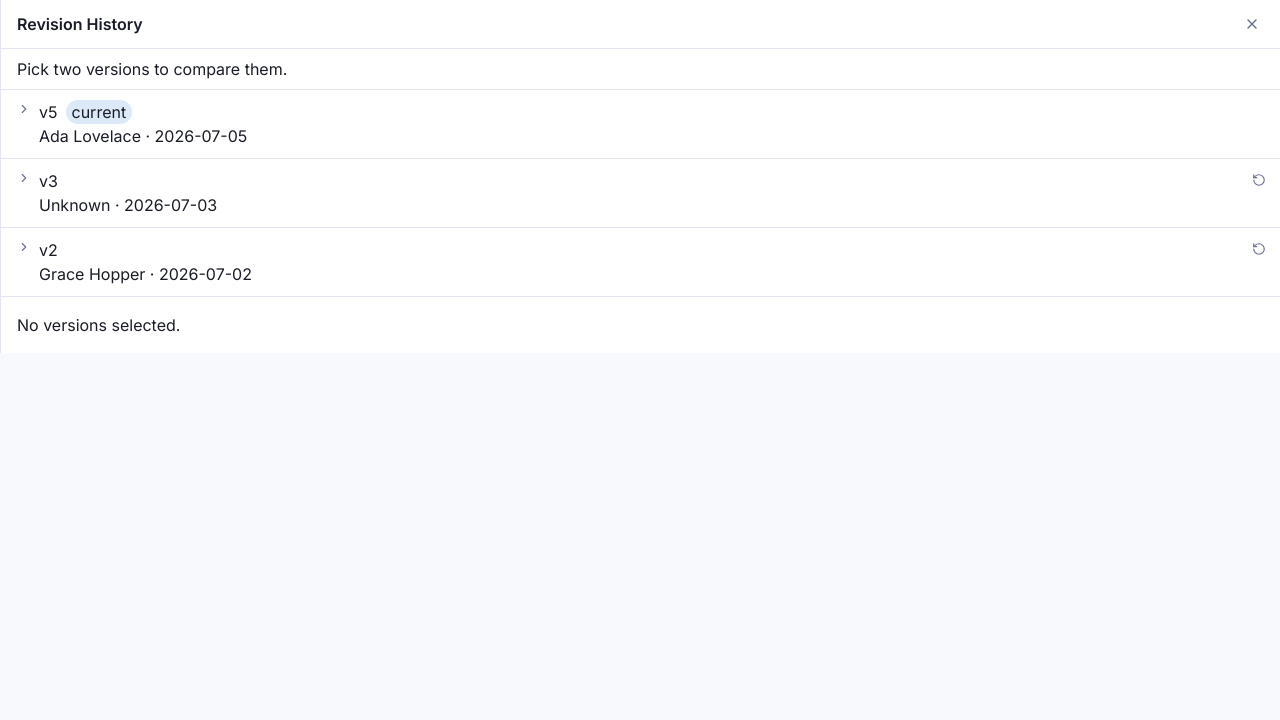
Scenario: restoring › asks first, and says the restore appends rather than rewrites
The image size is (1280, 720).
Click the button named "Restore version 2" at (1259,249), box [1246,236,1272,262]
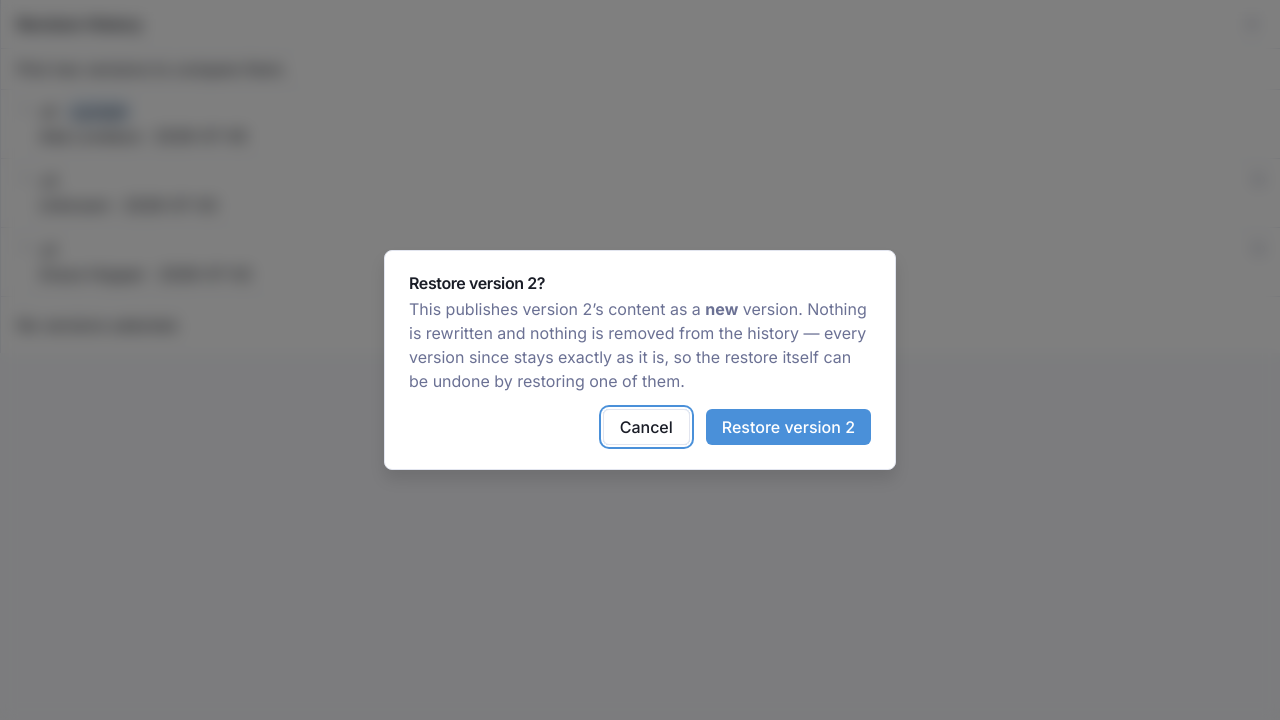
Check: the dialog with test id "codex-restore-confirm-dialog" shows "new", box [705,299,738,319]
Check: the dialog with test id "codex-restore-confirm-dialog" shows "history", box [409,299,867,391]
